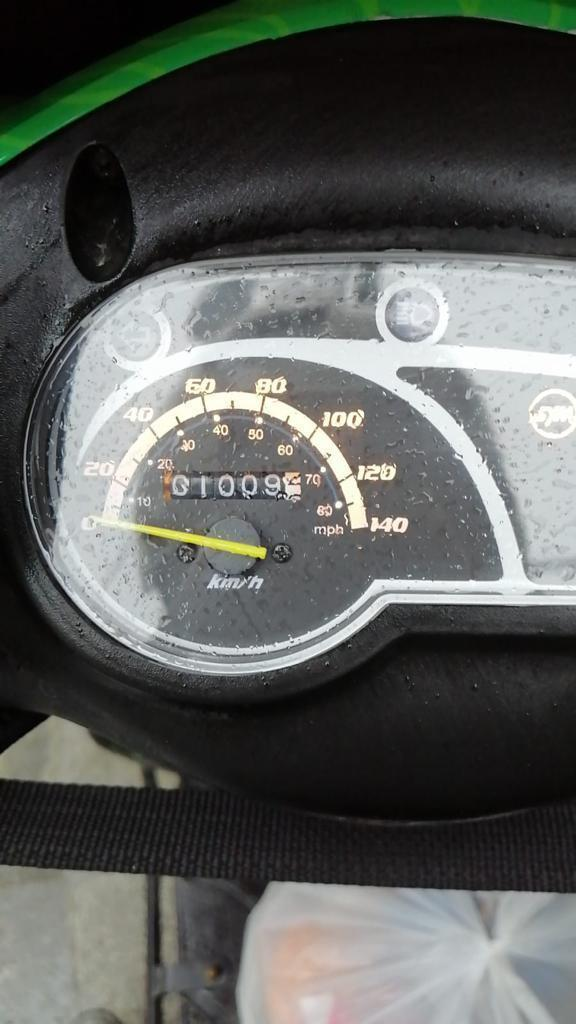0: (169, 472, 189, 499), (216, 472, 235, 500), (239, 472, 258, 499)
1: (197, 471, 211, 500)
2: (287, 469, 304, 488)
9: (262, 473, 281, 498)
odometer: (164, 468, 306, 504)
